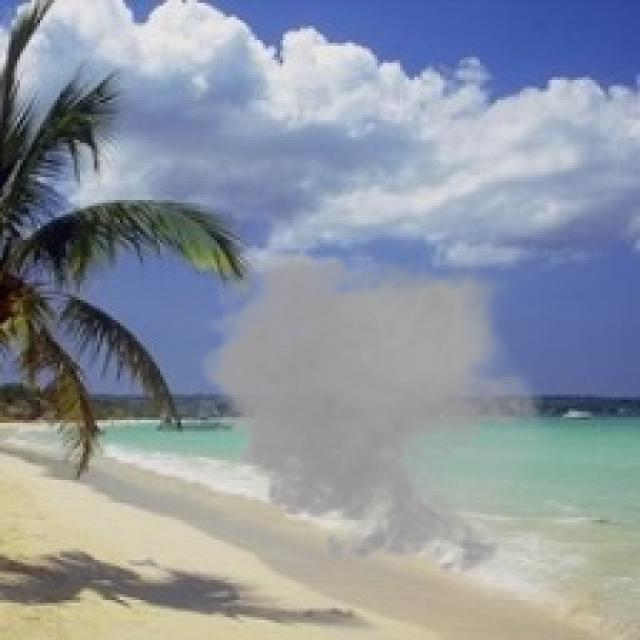Smoke: (188, 240, 560, 586)
